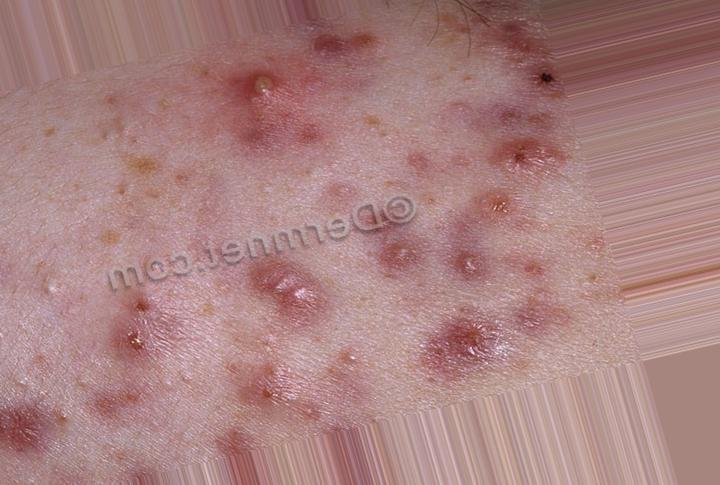Acne: (83, 292, 218, 377), (300, 25, 434, 101), (229, 56, 362, 127), (245, 246, 360, 325), (403, 296, 509, 378), (428, 183, 550, 243), (373, 206, 474, 277), (235, 348, 353, 408), (0, 380, 89, 448), (463, 115, 555, 167)
